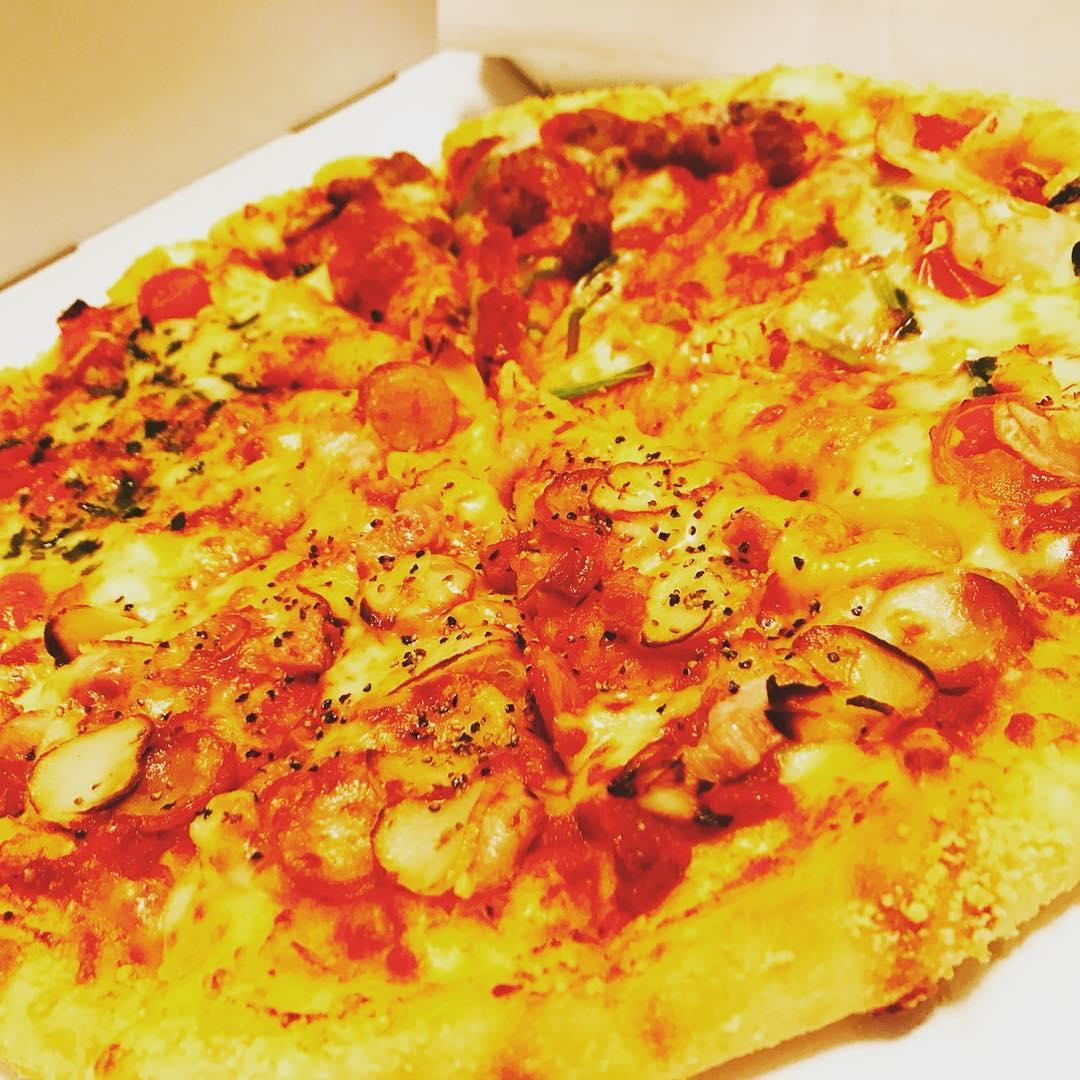Onion: (929, 391, 1080, 509), (907, 561, 1024, 698), (729, 405, 846, 508), (995, 485, 1080, 613), (363, 351, 461, 457), (485, 521, 618, 596), (313, 233, 424, 321), (503, 141, 601, 217), (45, 593, 137, 673), (125, 267, 229, 337)
Pizza: (0, 68, 1080, 1080)
